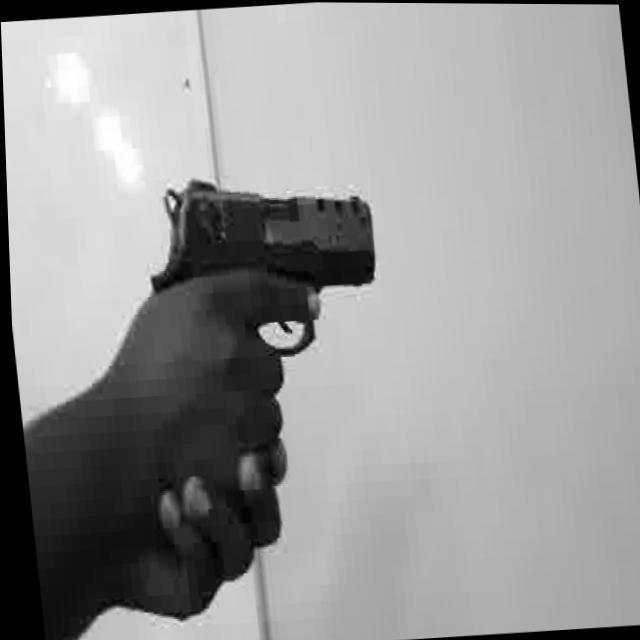weapon: (133, 164, 384, 368)
